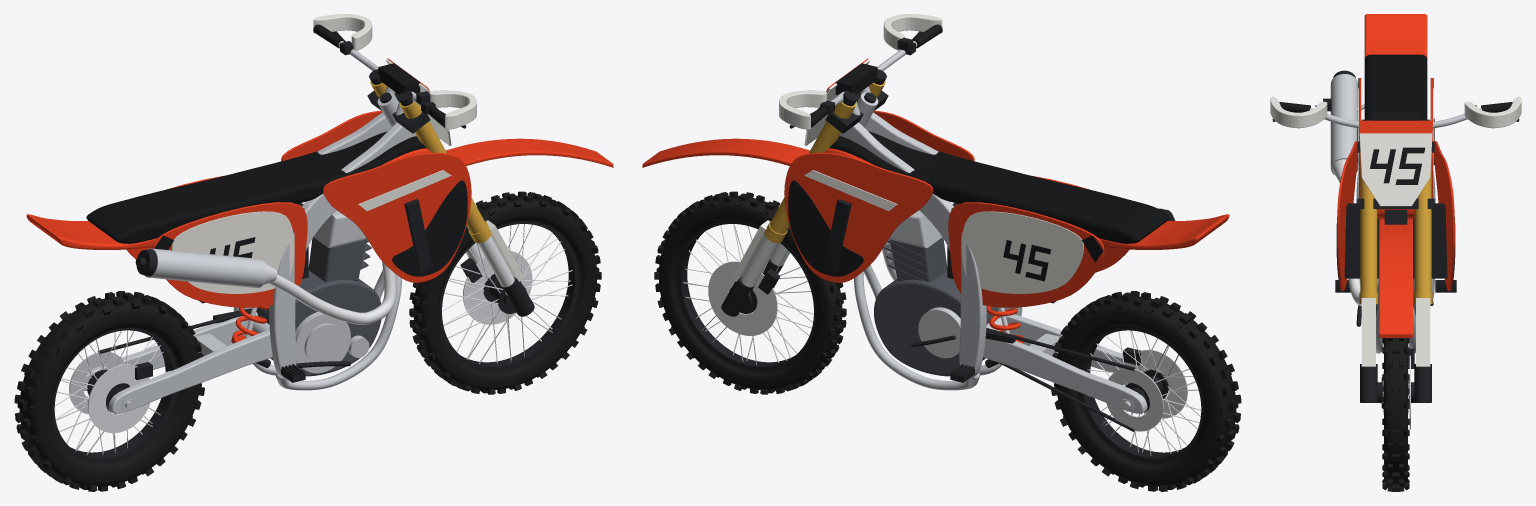
Rendered from factory_450_mx.glb.
3 views of the same model, side by side, from view 1: azimuth 30°, elevation 25°; view 2: azimuth 150°, elevation 25°; view 3: azimuth 270°, elevation 25° (orthographic). The views are drawn at different scales.
Parts seen in each view (by area): view 1: wheel_rear_tyre, wheel_front_tyre, seat, shroud_R_panel, swingarm_body, engine_block, side_plate_R, frame_spar_R, engine_covers, side_panel_R_shell, muffler, shroud_R_graphic (+22 smaller); view 2: wheel_rear_tyre, wheel_front_tyre, seat, shroud_L_panel, engine_block, side_plate_L, swingarm_body, frame_spar_L, side_panel_L_shell, shroud_L_graphic, wheel_front_rim, engine_covers (+21 smaller); view 3: wheel_front_tyre, fork_upper_tubes, front_fender, front_plate, seat, rear_fender, radiators, muffler, hand_guards, fork_guards, shroud_L_panel, shroud_R_panel (+11 smaller).
Part boxes in pixels (x1,y1,x2,y2): wheel_rear_tyre: [14, 291, 204, 491]; wheel_front_tyre: [409, 191, 601, 394]; seat: [86, 131, 426, 243]; shroud_R_panel: [322, 152, 471, 282]; swingarm_body: [83, 312, 272, 413]; engine_block: [257, 237, 381, 376]; side_plate_R: [172, 211, 294, 293]; frame_spar_R: [269, 122, 416, 379]; engine_covers: [295, 210, 369, 373]; side_panel_R_shell: [152, 202, 307, 307]; muffler: [145, 248, 266, 288]; shroud_R_graphic: [392, 180, 467, 276]; wheel_rear_tyre: [1051, 291, 1241, 491]; wheel_front_tyre: [654, 191, 846, 394]; seat: [829, 131, 1169, 243]; shroud_L_panel: [784, 152, 933, 282]; engine_block: [874, 237, 998, 376]; side_plate_L: [961, 211, 1083, 293]; swingarm_body: [983, 311, 1169, 413]; frame_spar_L: [839, 122, 986, 379]; side_panel_L_shell: [948, 202, 1104, 307]; shroud_L_graphic: [788, 180, 863, 276]; wheel_front_rim: [676, 221, 816, 371]; engine_covers: [889, 210, 960, 358]; wheel_front_tyre: [1382, 338, 1409, 491]; fork_upper_tubes: [1359, 154, 1432, 304]; front_fender: [1379, 218, 1412, 337]; front_plate: [1359, 126, 1432, 206]; seat: [1364, 54, 1427, 119]; rear_fender: [1364, 14, 1427, 56]; radiators: [1344, 203, 1447, 278]; muffler: [1330, 74, 1358, 175]; hand_guards: [1270, 96, 1521, 128]; fork_guards: [1361, 298, 1430, 366]; shroud_L_panel: [1433, 141, 1454, 290]; shroud_R_panel: [1337, 141, 1358, 290].
Bounding box in the file's own units: 2.21 × 1.27 × 0.8797.
